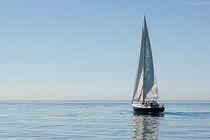fanchuan: (129, 13, 171, 116)
